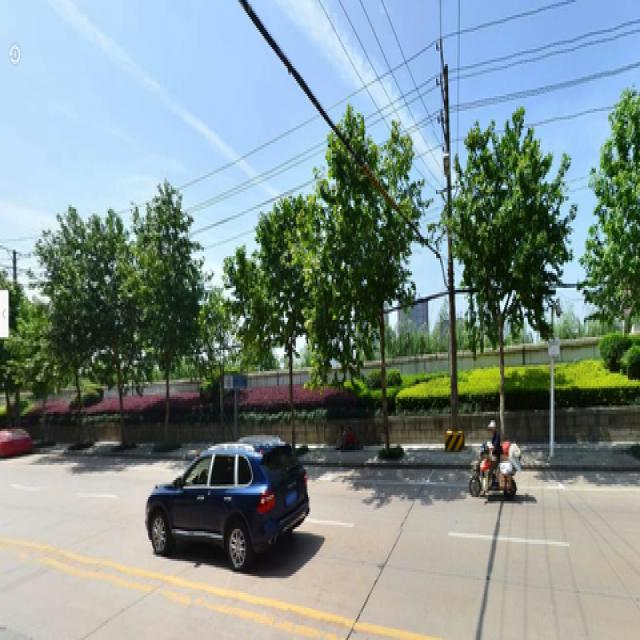meta: (461, 124, 564, 437), (317, 160, 412, 448), (135, 205, 189, 429)
